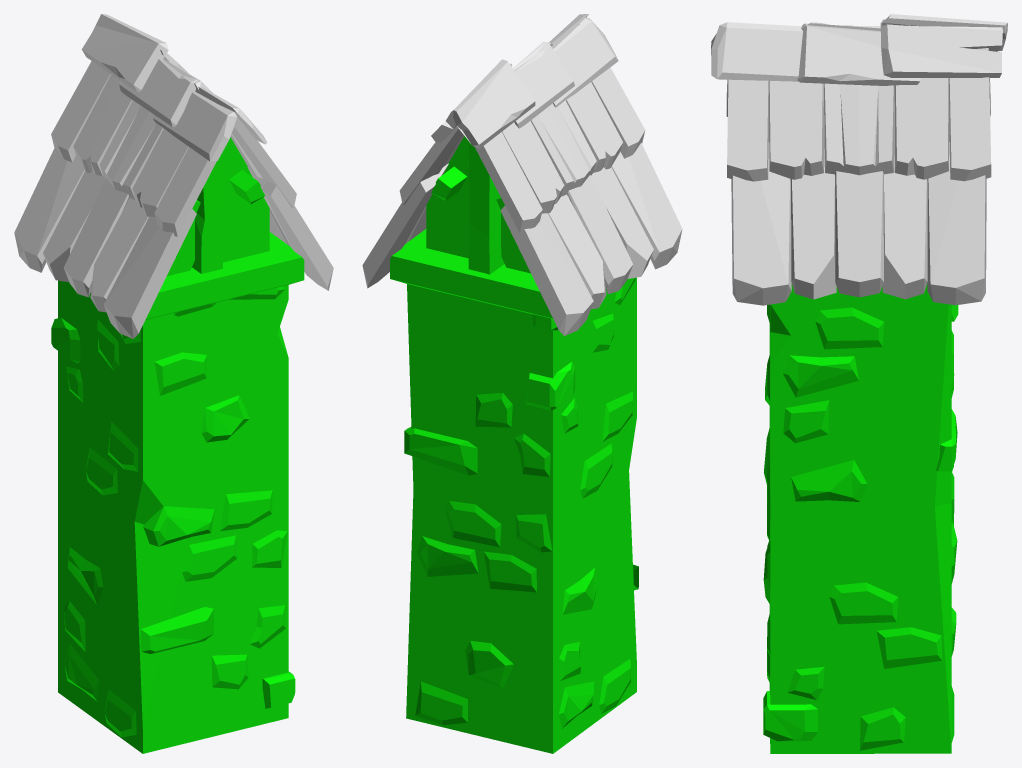
File: SM_Chimney_Fantasy.fbx
The picture shows the model from 3 angles, left to right: view 1: azimuth 30°, elevation 25°; view 2: azimuth 150°, elevation 25°; view 3: azimuth 270°, elevation 25°; orthographic projection. The views are drawn at different scales.
Parts seen in each view (by area): view 1: SM_Chimney_Fantasy; view 2: SM_Chimney_Fantasy; view 3: SM_Chimney_Fantasy.
Boxes of the visible parts, <box> form: SM_Chimney_Fantasy: <box>14,14,333,753</box>; SM_Chimney_Fantasy: <box>362,14,682,753</box>; SM_Chimney_Fantasy: <box>711,14,1007,753</box>.
Size of the model in its own units: 1.44 by 4.27 by 1.64.
